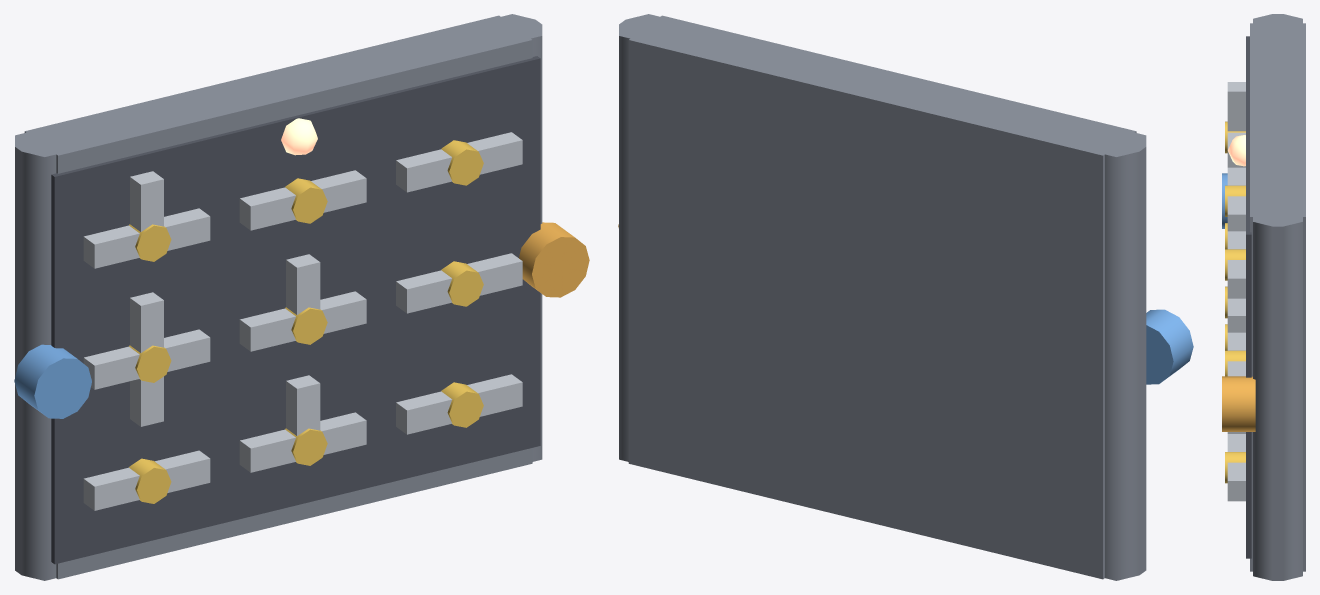
File: prop_fuel_line_panel.glb
3 renders of one model, left to right at view 1: azimuth 30°, elevation 25°; view 2: azimuth 150°, elevation 25°; view 3: azimuth 270°, elevation 25°, orthographic. The views are drawn at different scales.
Parts seen in each view (by area): view 1: prop_fuel_line_panel, pipe_piece_4, pipe_piece_2, pipe_piece_5, pipe_piece_7, pipe_piece_8, pipe_piece_1, pipe_piece_9, pipe_piece_3, pipe_piece_6, tank_port, engine_port (+1 smaller); view 2: prop_fuel_line_panel, tank_port; view 3: prop_fuel_line_panel, engine_port, pipe_piece_9, pipe_piece_3, pipe_piece_8, pipe_piece_7, pipe_piece_6, pipe_piece_5, flow_lamp, tank_port.
Boxes of the visible parts, left/top/right/bottom form: prop_fuel_line_panel: left=15, top=14, right=542, bottom=580; pipe_piece_4: left=83, top=292, right=210, bottom=426; pipe_piece_2: left=239, top=375, right=366, bottom=472; pipe_piece_5: left=239, top=254, right=366, bottom=351; pipe_piece_7: left=83, top=171, right=210, bottom=268; pipe_piece_8: left=239, top=170, right=366, bottom=230; pipe_piece_1: left=83, top=450, right=210, bottom=510; pipe_piece_9: left=396, top=132, right=522, bottom=192; pipe_piece_3: left=396, top=374, right=522, bottom=434; pipe_piece_6: left=396, top=253, right=522, bottom=313; tank_port: left=14, top=344, right=91, bottom=418; engine_port: left=519, top=222, right=589, bottom=297; prop_fuel_line_panel: left=619, top=14, right=1146, bottom=580; tank_port: left=1146, top=309, right=1193, bottom=384; prop_fuel_line_panel: left=1246, top=14, right=1305, bottom=580; engine_port: left=1222, top=376, right=1255, bottom=431; pipe_piece_9: left=1225, top=231, right=1245, bottom=298; pipe_piece_3: left=1225, top=434, right=1245, bottom=501; pipe_piece_8: left=1225, top=167, right=1245, bottom=231; pipe_piece_7: left=1225, top=82, right=1245, bottom=167; pipe_piece_6: left=1225, top=332, right=1245, bottom=376; pipe_piece_5: left=1225, top=286, right=1245, bottom=332; flow_lamp: left=1227, top=135, right=1245, bottom=166; tank_port: left=1222, top=173, right=1227, bottom=228.
Size of the model in its own units: 0.96 by 0.7 by 0.15.
